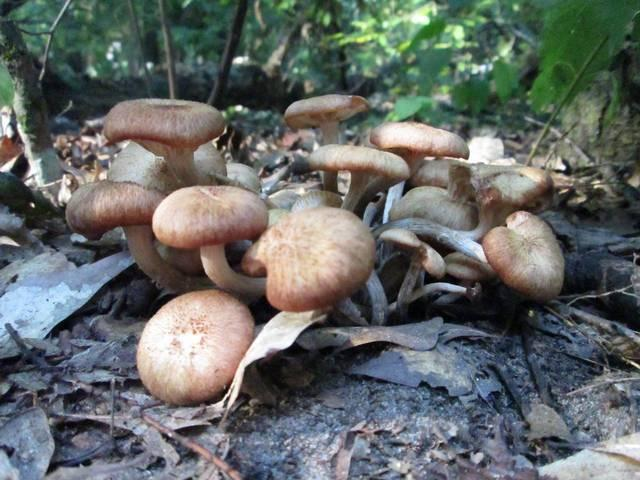Edible Mushroom: (64, 91, 565, 406), (135, 288, 254, 406)
